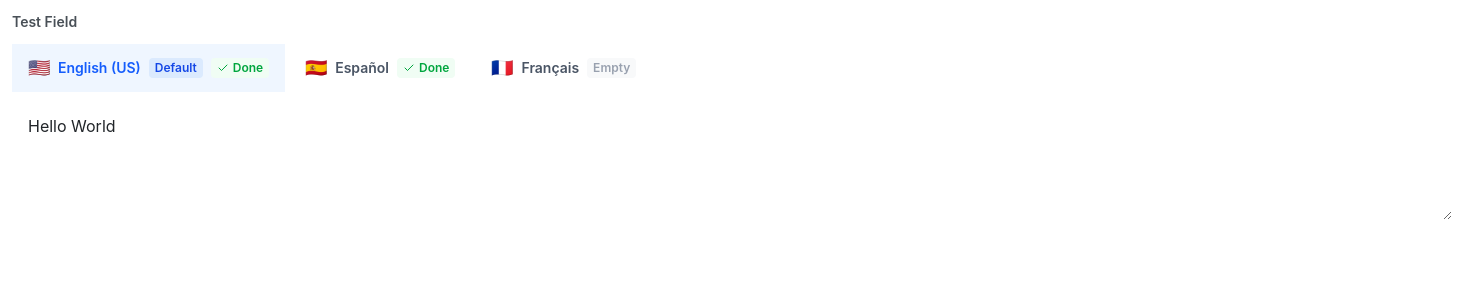
Scenario: TranslatableTextarea Component › Copy from Default Functionality › should show copy button on non-default language tabs
Click the button "🇪🇸 Español Done": (380, 68) [289,44,472,92]
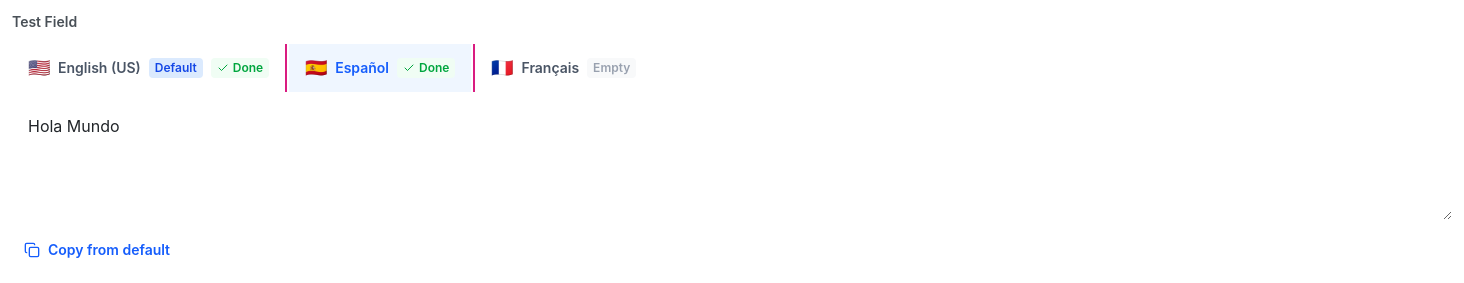
expect the button "Copy from default" is shown: met, box [12,234,182,266]
